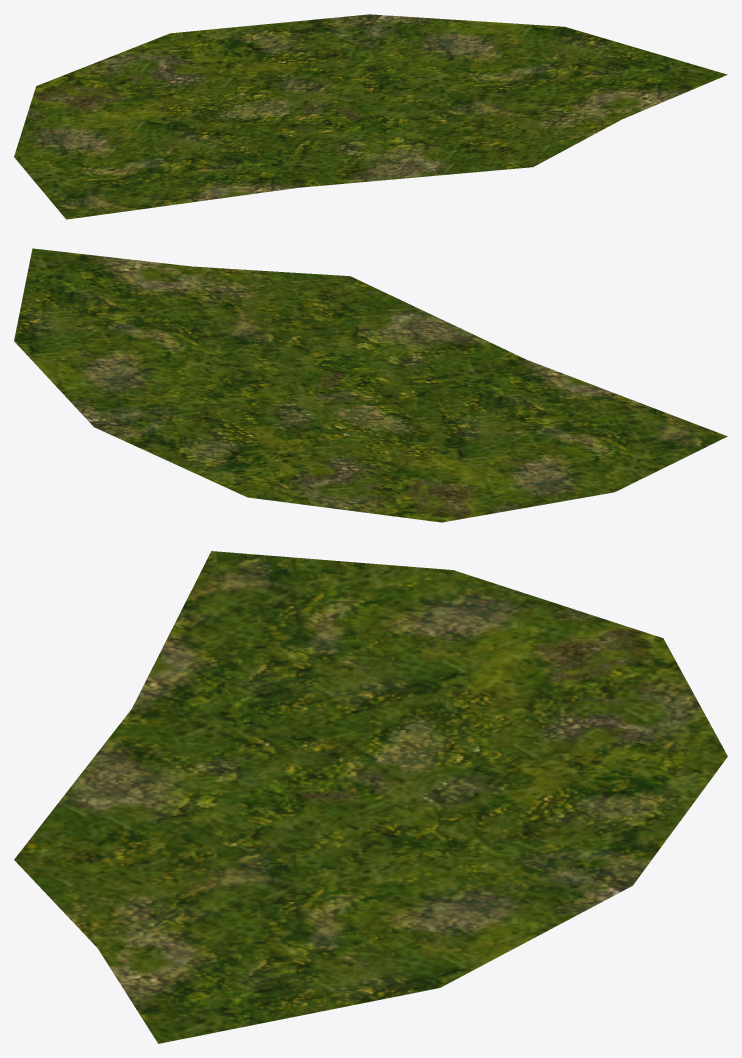
Rendered from OVERHILL_A_01_LINE27.fbx.
The picture shows the model from 3 angles, top to bottom: view 1: azimuth 30°, elevation 25°; view 2: azimuth 150°, elevation 25°; view 3: azimuth 270°, elevation 25°; orthographic projection. The views are drawn at different scales.
Parts seen in each view (by area): view 1: OVERHILL_A_01_LINE27; view 2: OVERHILL_A_01_LINE27; view 3: OVERHILL_A_01_LINE27.
Part boxes in pixels (<box>): OVERHILL_A_01_LINE27: <box>14,14,727,219</box>; OVERHILL_A_01_LINE27: <box>14,248,727,522</box>; OVERHILL_A_01_LINE27: <box>14,551,727,1043</box>.
Size of the model in its own units: 33355 by 0.00333 by 20418.
Materials: 1 (1 with a texture image).
